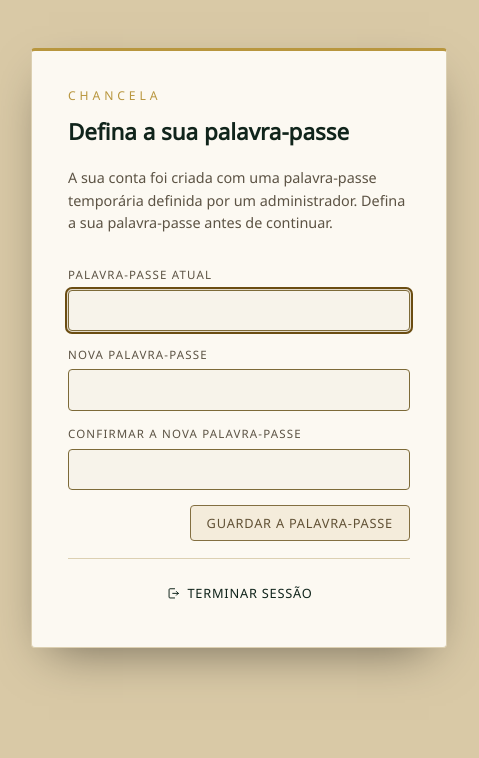
AuthGate — required-action wall (t21) › rejects a wrong current password inline and keeps the wall (never a sign-out)
Expected: the heading "Defina a sua palavra-passe" is shown, [68,116,349,147]
Type "wrong-current" into the password field labelled "Palavra-passe atual" at (239, 311), box [68,290,410,331]
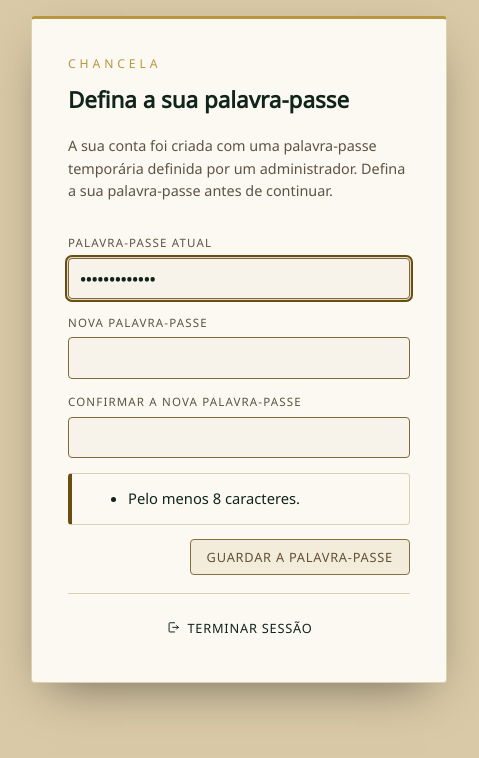
Type "a-strong-new-secret" into the password field labelled "Nova palavra-passe" at (239, 358), box [68,337,410,379]
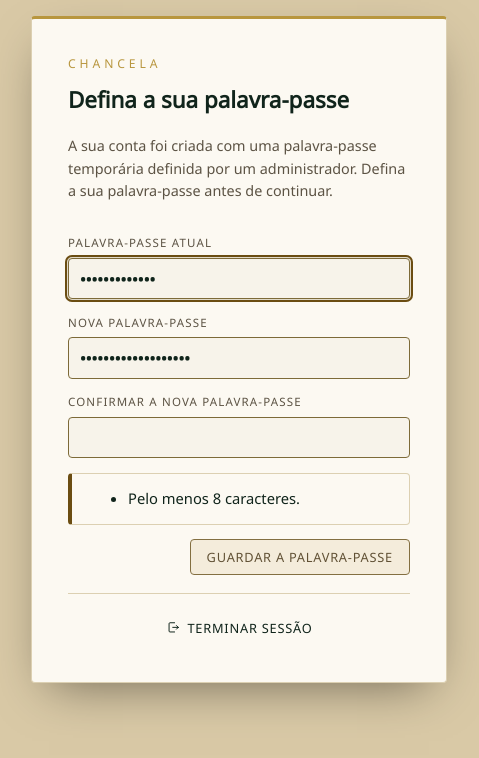
Type "a-strong-new-secret" into the password field labelled "Confirmar a nova palavra-passe" at (239, 437), box [68,417,410,458]
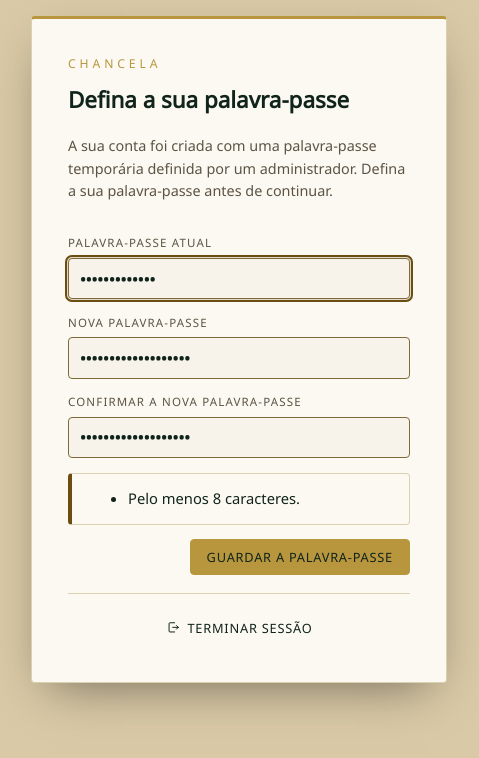
Click the button "Guardar a palavra-passe" at (300, 557), box [190,539,410,575]
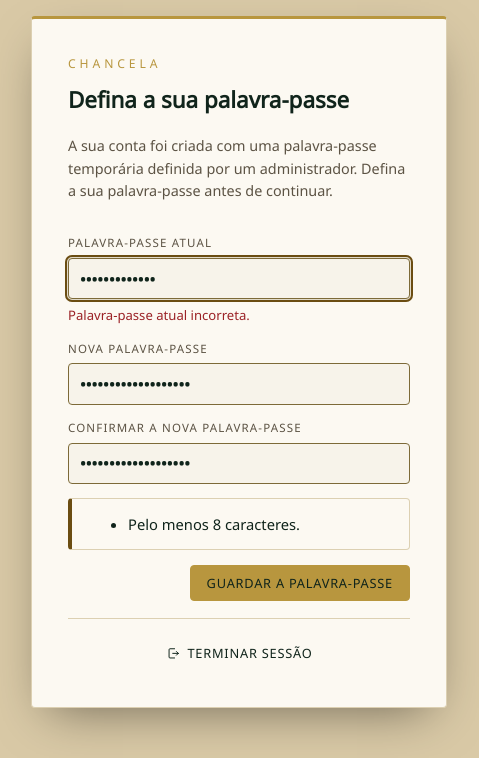
Expected: the heading "Defina a sua palavra-passe" is shown, [68,84,349,115]
Expected: the text "Palavra-passe atual incorreta." is shown, [68,306,250,324]
